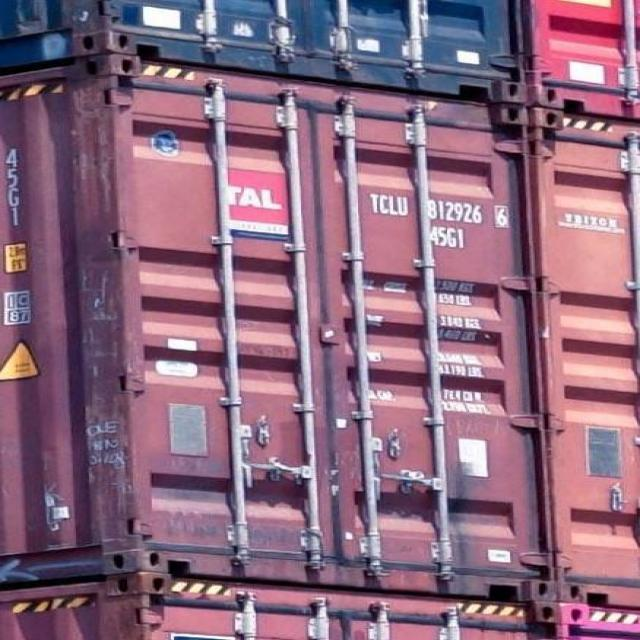ISO: (429, 224, 471, 249)
container_number: (372, 190, 511, 226)
